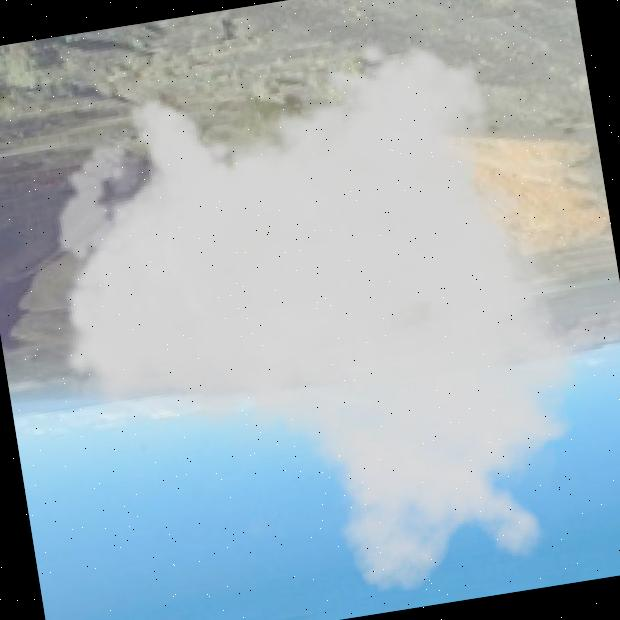smoke: (19, 6, 620, 620)
